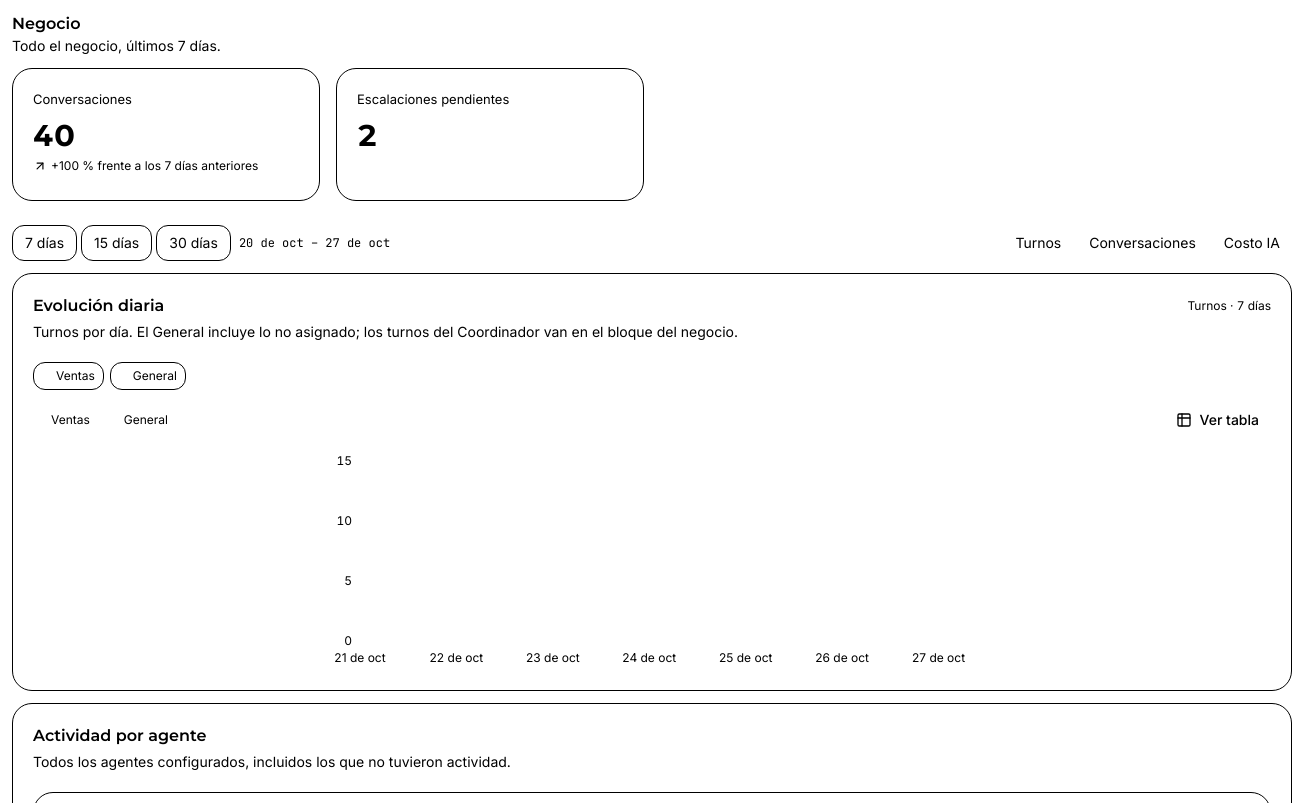
ResumenAgentes (ADR-0171) › el selector de métrica cambia la serie de la gráfica sin recargar
Expected: the element named "Turnos por agente y día" is shown, [33,450,1271,670]
Click the button "Conversaciones" at [1142, 243], box [1077,225,1208,261]
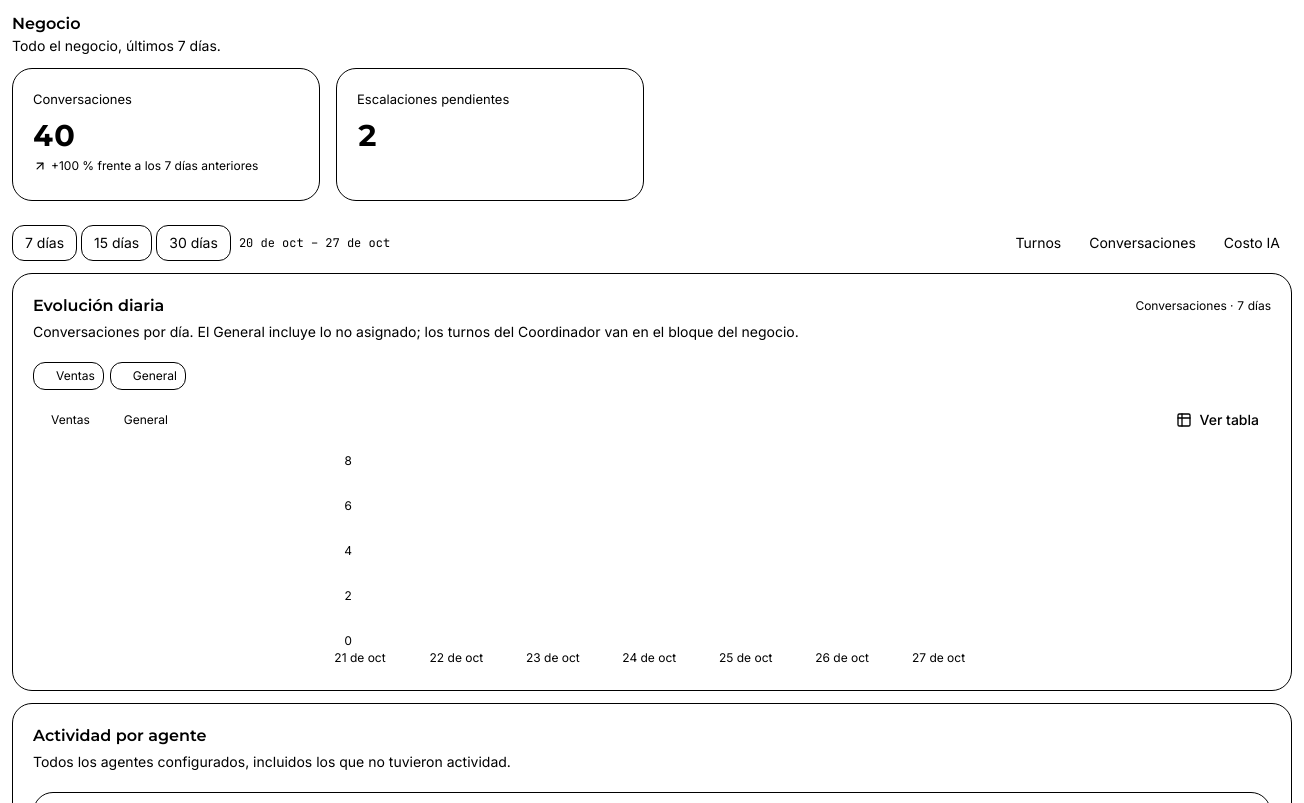
Expected: the element named "Conversaciones por agente y día" is shown, [33,450,1271,670]
Click the button "Costo IA" at [1252, 243], box [1212,225,1292,261]
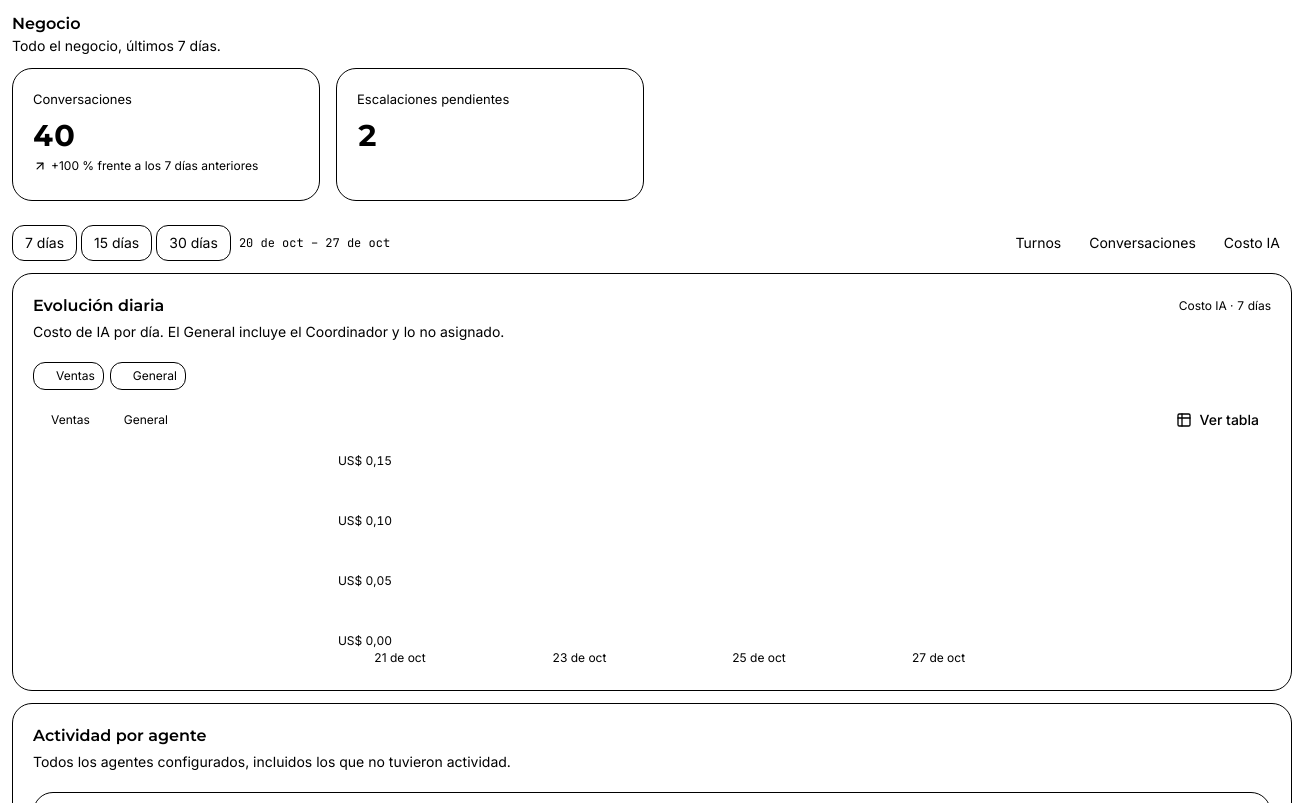
Expected: the element named "Costo IA por agente y día" is shown, [33,450,1271,670]
